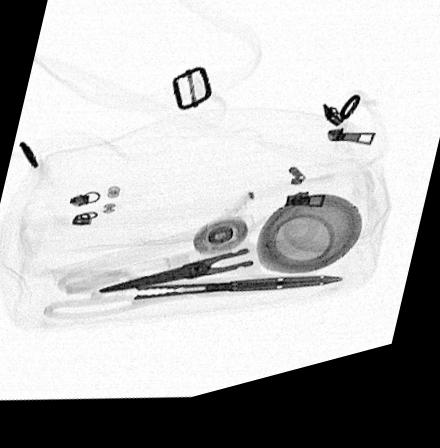Scissors: (39, 271, 348, 323), (90, 255, 255, 301)
